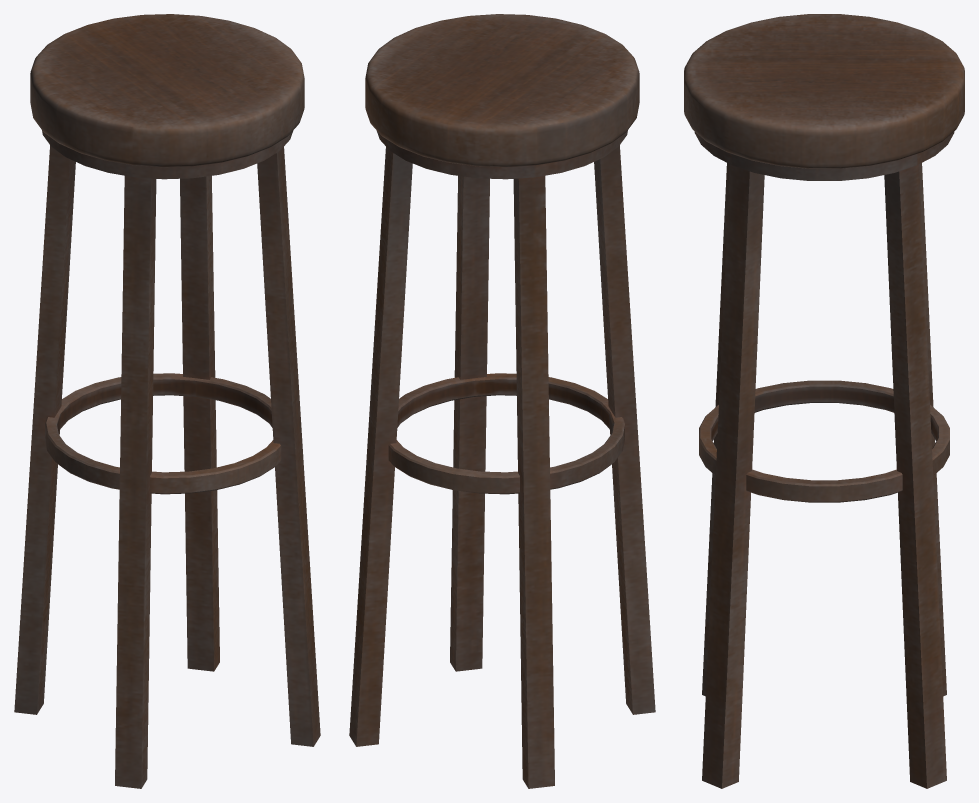
File: Stool.FBX
3 views of the same model, side by side, from view 1: azimuth 30°, elevation 25°; view 2: azimuth 150°, elevation 25°; view 3: azimuth 270°, elevation 25° (orthographic). The views are drawn at different scales.
Visible parts, largest first — view 1: Stool; view 2: Stool; view 3: Stool.
Boxes of the visible parts, <box> form: Stool: <box>14,14,320,788</box>; Stool: <box>349,14,655,788</box>; Stool: <box>684,14,964,788</box>.
Bounding box in the file's own units: 0.3662 × 0.9708 × 0.3702.
1 material, 1 textured.
